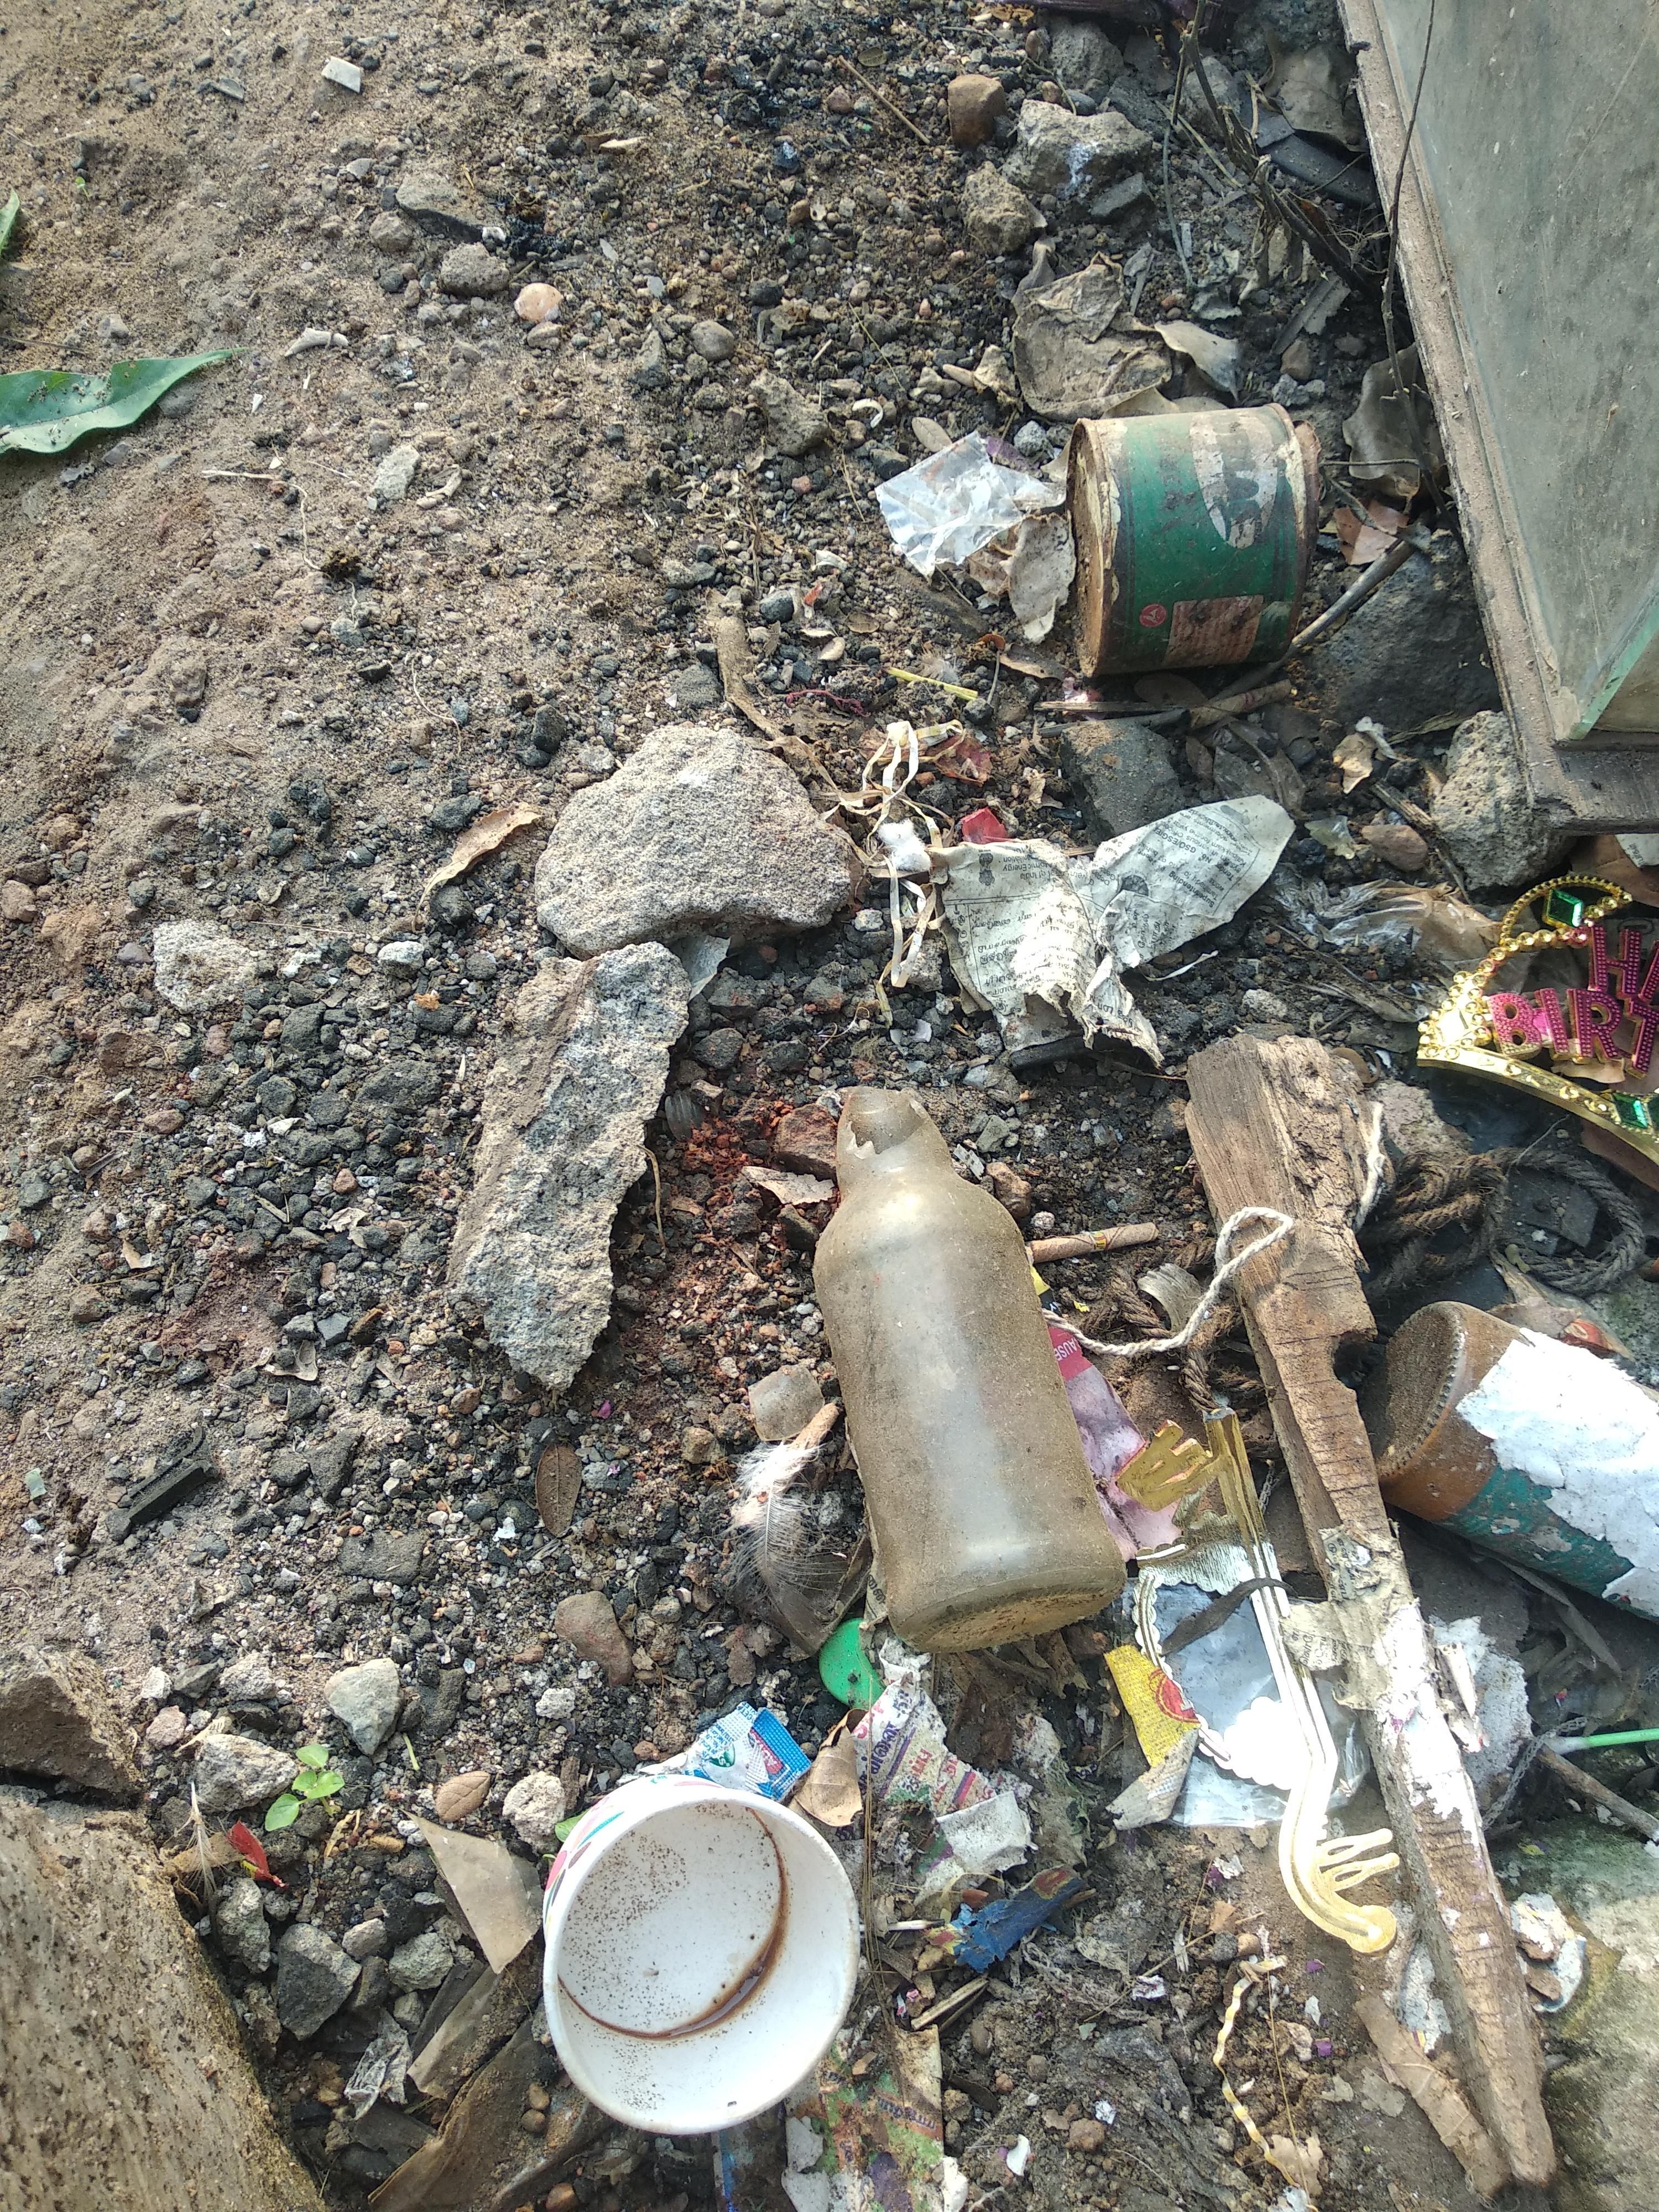trash: (530, 395, 1658, 2206)
